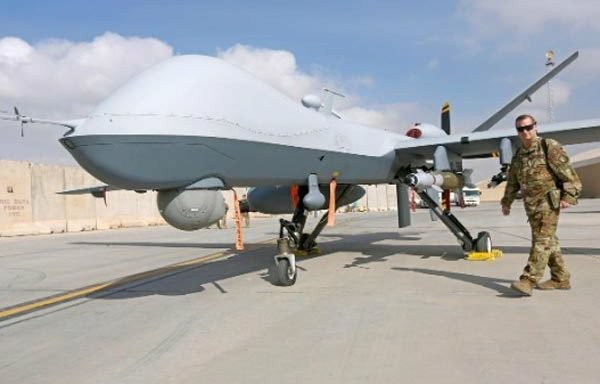maybay_khongnguoilai: (56, 52, 594, 287)
